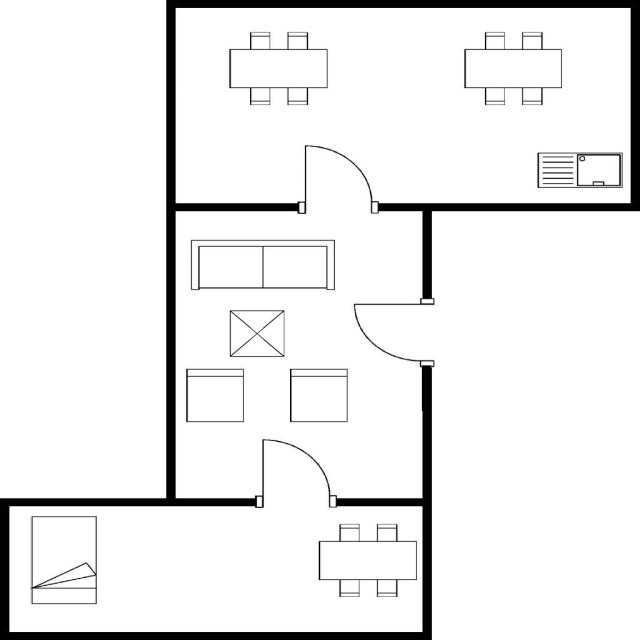bed: (24, 511, 100, 610)
coffee_table: (224, 305, 290, 362)
dining_table: (223, 26, 337, 110), (313, 520, 420, 602), (460, 27, 568, 108)
large_sofa: (183, 234, 340, 296)
sink: (532, 148, 624, 190)
small_sofa: (182, 364, 250, 428), (284, 366, 352, 426)
